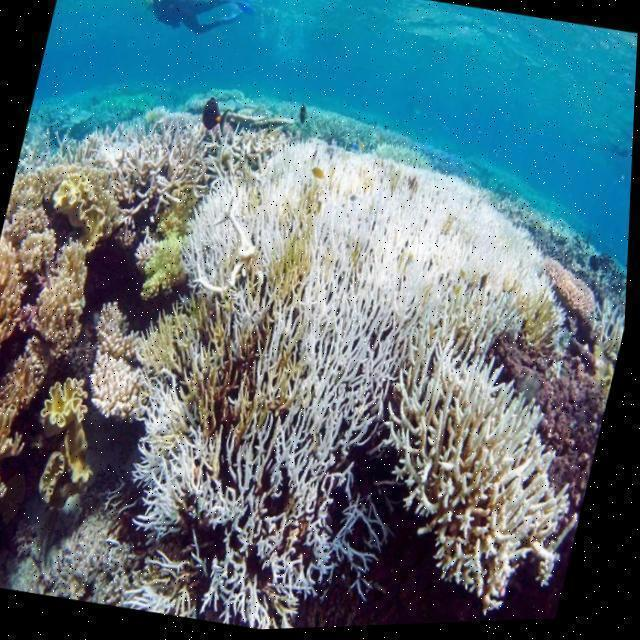Bleached Coral: (107, 110, 636, 637)
Healthy Coral: (0, 145, 93, 536)
